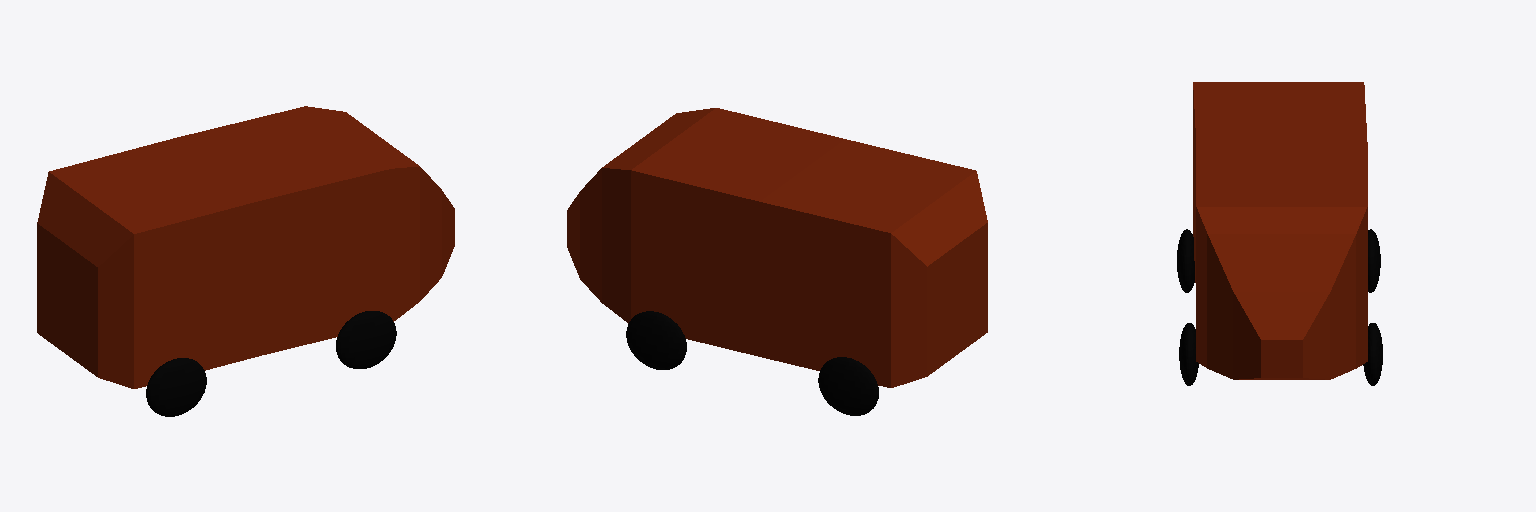
Rendered from Auto1.obj.
3 renders of one model, left to right at view 1: azimuth 30°, elevation 25°; view 2: azimuth 150°, elevation 25°; view 3: azimuth 270°, elevation 25°, orthographic.
Visible parts, largest first — view 1: Cube_Cube.003, Sphere.001_Sphere.003, Sphere; view 2: Cube_Cube.003, Sphere, Sphere.001_Sphere.003; view 3: Cube_Cube.003, Sphere, Sphere.001_Sphere.003.
Part boxes in pixels (left/top/right/bottom): Cube_Cube.003: left=37, top=106, right=454, bottom=388; Sphere.001_Sphere.003: left=146, top=358, right=206, bottom=416; Sphere: left=336, top=311, right=396, bottom=368; Cube_Cube.003: left=567, top=108, right=987, bottom=387; Sphere: left=626, top=311, right=686, bottom=369; Sphere.001_Sphere.003: left=818, top=357, right=878, bottom=415; Cube_Cube.003: left=1193, top=82, right=1367, bottom=379; Sphere: left=1179, top=323, right=1382, bottom=385; Sphere.001_Sphere.003: left=1177, top=229, right=1380, bottom=292.
Size of the model in its own units: 5.1 by 2.45 by 2.41.